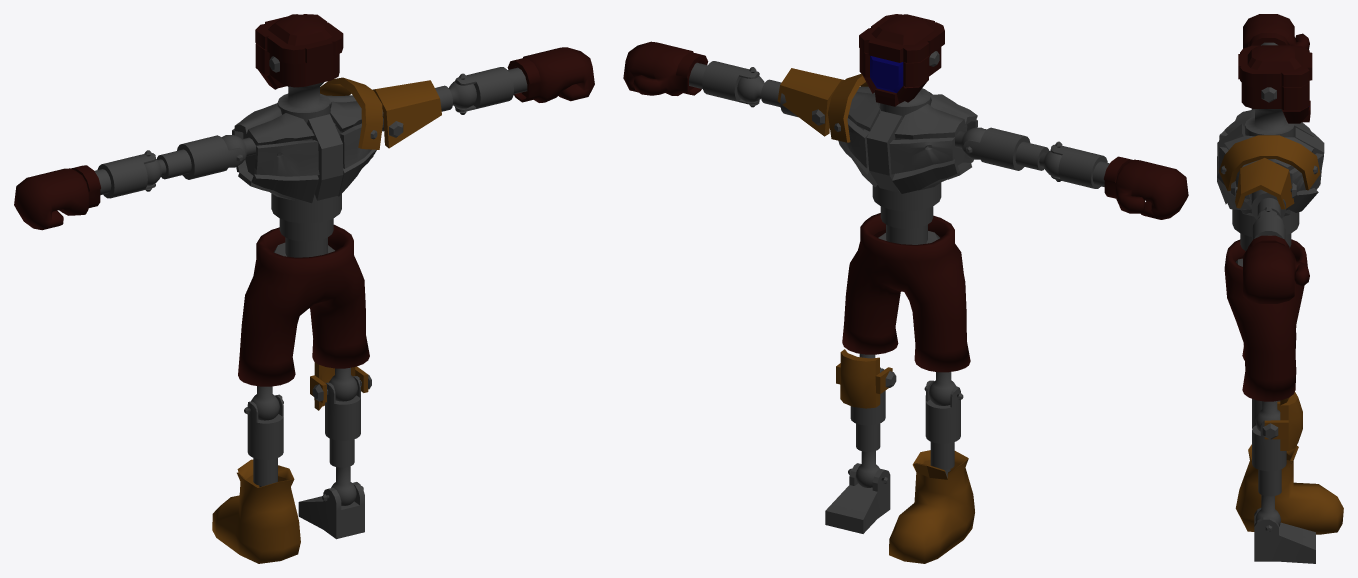
Rendered from Robot z rigiem.fbx.
3 renders of one model, left to right at view 1: azimuth 30°, elevation 25°; view 2: azimuth 150°, elevation 25°; view 3: azimuth 270°, elevation 25°, orthographic. The views are drawn at different scales.
Parts seen in each view (by area): view 1: Cylinder039, Box024, Box031, Box026, Object016, Box029, Cylinder044, Box028, Box001, Box025, Box027, Object001 (+10 smaller); view 2: Cylinder039, Box024, Box031, Box026, Object016, Box029, Box001, Box028, Cylinder044, Box030, Box004, Object001 (+8 smaller); view 3: Cylinder039, Box026, Box031, Box029, Box027, Box024, Box001, Box028, Object016, Cylinder044, Box030, Cylinder023 (+12 smaller).
Part boxes in pixels (<box>): Cylinder039: <box>238,224,369,386</box>; Box024: <box>232,95,376,203</box>; Box031: <box>212,459,300,563</box>; Box026: <box>255,14,343,89</box>; Object016: <box>14,165,100,230</box>; Box029: <box>507,47,594,102</box>; Cylinder044: <box>247,376,360,459</box>; Box028: <box>372,80,441,148</box>; Box001: <box>298,482,364,539</box>; Box025: <box>307,114,343,200</box>; Box027: <box>320,77,382,149</box>; Object001: <box>177,135,245,179</box>; Cylinder039: <box>842,213,970,372</box>; Box024: <box>838,86,977,193</box>; Box031: <box>889,450,974,563</box>; Box026: <box>859,14,944,106</box>; Object016: <box>1104,156,1188,219</box>; Box029: <box>623,41,708,95</box>; Box001: <box>825,463,890,533</box>; Box028: <box>777,68,843,136</box>; Cylinder044: <box>850,368,960,443</box>; Box030: <box>836,349,892,408</box>; Box004: <box>866,111,903,192</box>; Object001: <box>963,127,1030,170</box>; Cylinder039: <box>1224,239,1307,401</box>; Box026: <box>1238,45,1312,123</box>; Box031: <box>1235,444,1343,534</box>; Box029: <box>1243,235,1309,303</box>; Box027: <box>1218,135,1320,190</box>; Box024: <box>1217,109,1323,216</box>; Box001: <box>1254,508,1315,563</box>; Box028: <box>1235,158,1294,209</box>; Object016: <box>1243,14,1309,49</box>; Cylinder044: <box>1252,399,1286,471</box>; Box030: <box>1264,392,1302,450</box>; Cylinder023: <box>1245,109,1294,137</box>.
Bounding box in the file's own units: 225 × 198 × 46.2.
